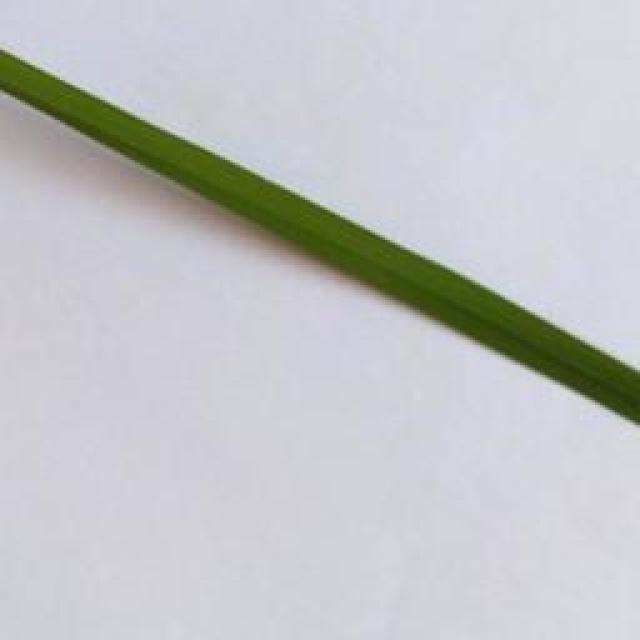Healthy-Plant: (0, 52, 640, 426)
